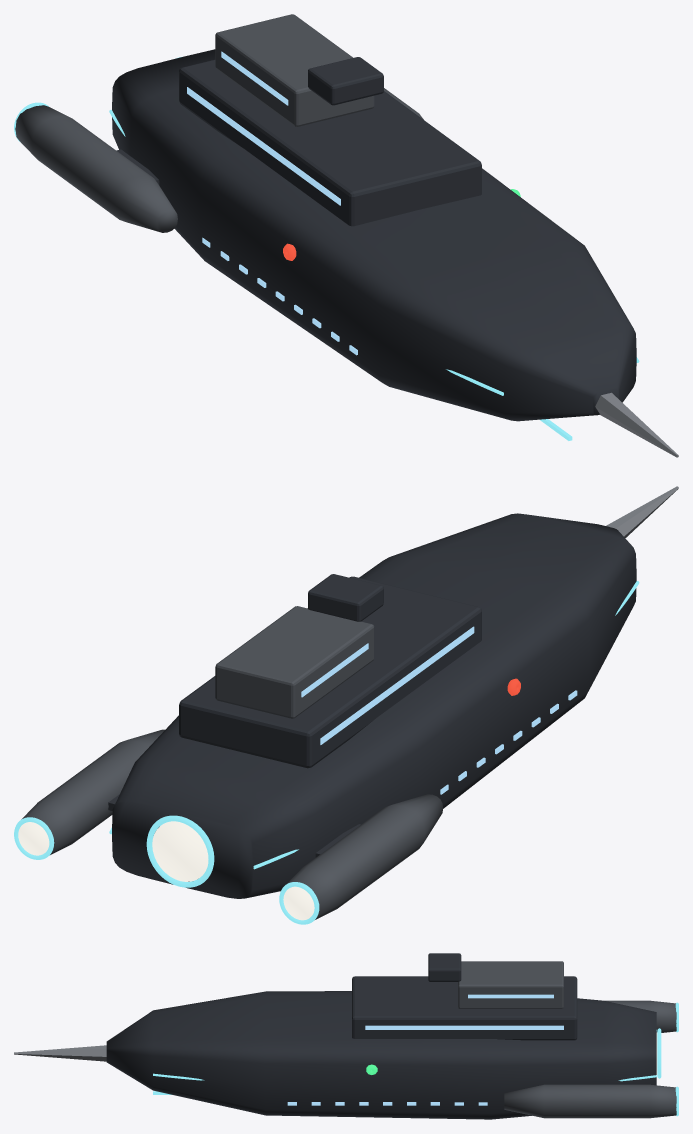
File: carrier.glb
The picture shows the model from 3 angles, top to bottom: view 1: azimuth 30°, elevation 25°; view 2: azimuth 150°, elevation 25°; view 3: azimuth 270°, elevation 25°; orthographic projection. The views are drawn at different scales.
Visible parts, largest first — view 1: Shell, Panel, Window, Alloy, Trim; view 2: Shell, Panel, Lens, Trim, Window, Alloy; view 3: Shell, Panel, Window, Alloy, Trim.
Part boxes in pixels (box(x1,y1,x2,y2)): Shell: box(112, 49, 636, 421); Panel: box(15, 14, 423, 232); Window: box(187, 51, 357, 355); Alloy: box(595, 392, 678, 457); Trim: box(14, 56, 639, 440); Shell: box(108, 513, 636, 898); Panel: box(21, 606, 442, 919); Lens: box(18, 821, 314, 920); Trim: box(14, 581, 639, 924); Window: box(301, 626, 577, 794); Alloy: box(606, 486, 678, 537); Shell: box(106, 953, 656, 1119); Panel: box(458, 961, 676, 1118); Window: box(287, 994, 563, 1105); Alloy: box(14, 1045, 106, 1061); Trim: box(153, 1002, 678, 1116).
Bounding box in the file's own units: 35.2 × 22.2 × 100.
